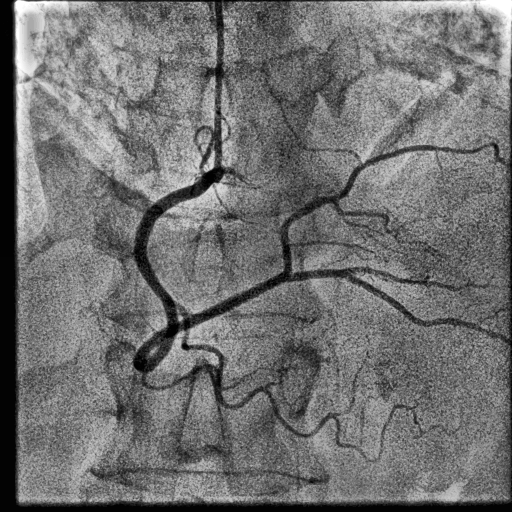pborca: (279, 143, 506, 270)
pda: (289, 269, 510, 342)
rca: (134, 170, 290, 374)
